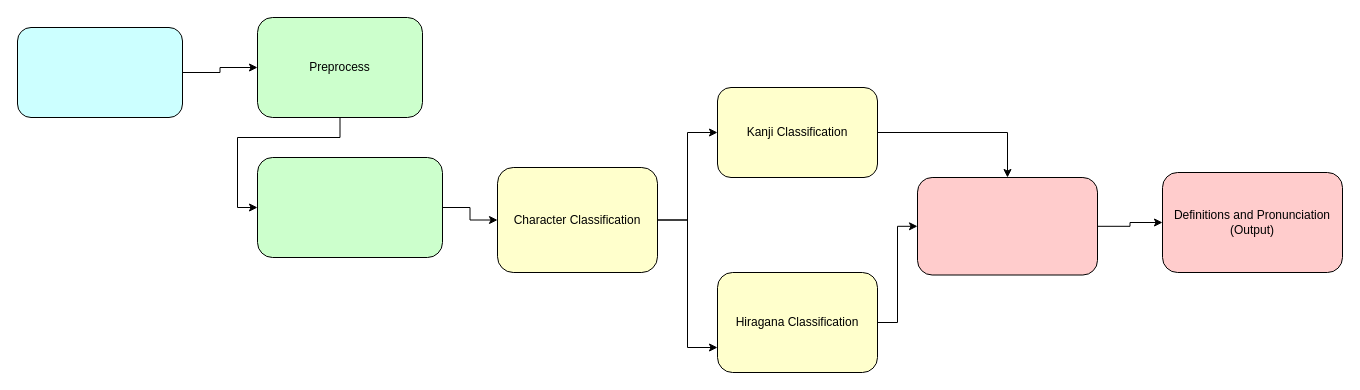
This 1360x390 diagram has some shape labels left out. The shapes that lost their labels are listed below. From the top down, each one's centre as x and y in pixels, then its label:
the point at 99,72: Image (Input)
the point at 349,207: Character Segmentation
the point at 1007,225: Ichiran Japanese Lingustic Applcication
